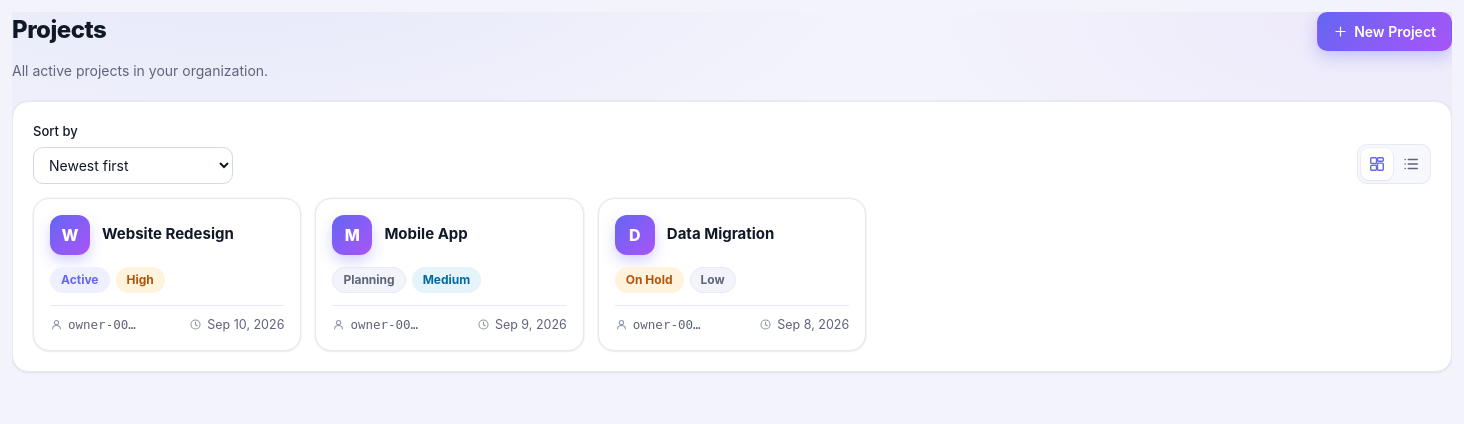
ProjectsListPage › toggles between card and list views and persists the choice in localStorage
Expected: the list named "Projects" is shown, [33, 198, 866, 351]
Click the button named "List view" at (1411, 164), box [1395, 148, 1427, 180]
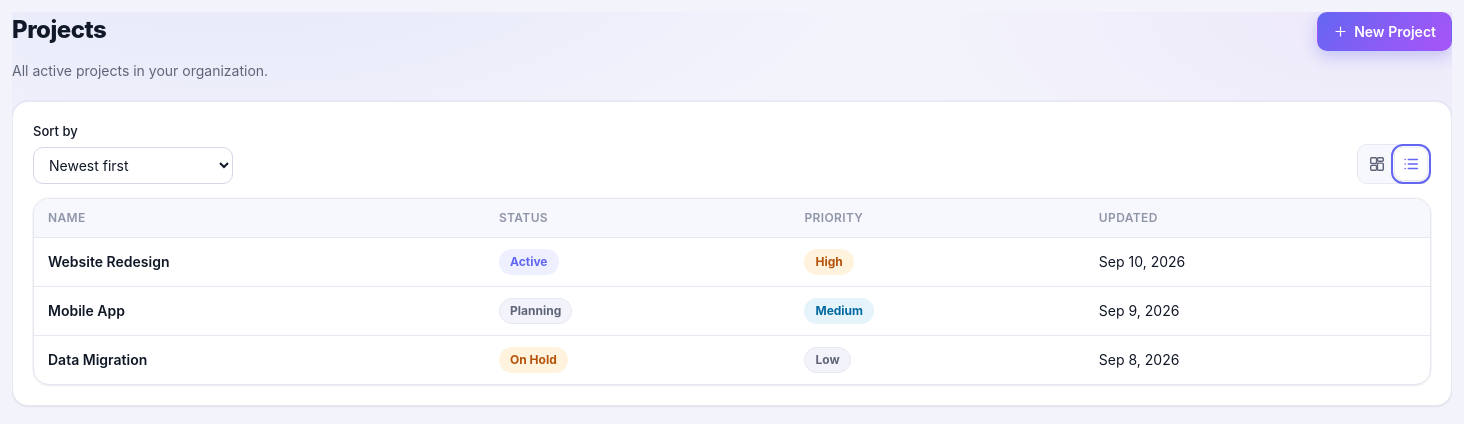
Result: the table is shown at [34, 198, 1430, 384]
Click the button named "Card view" at (1377, 164), box [1361, 148, 1393, 180]
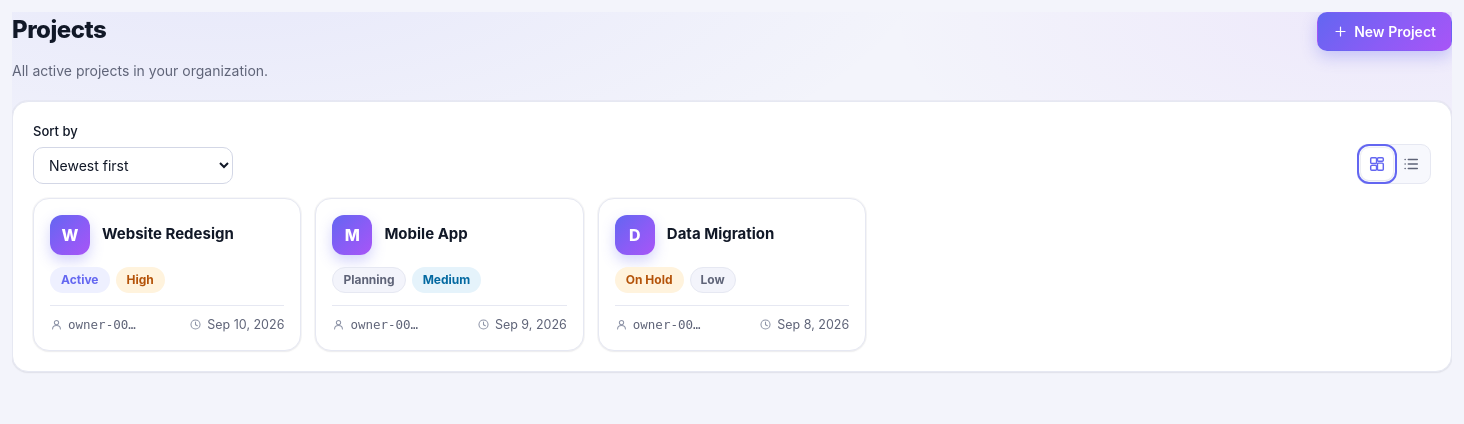
Result: the list named "Projects" is shown at [33, 198, 866, 351]
